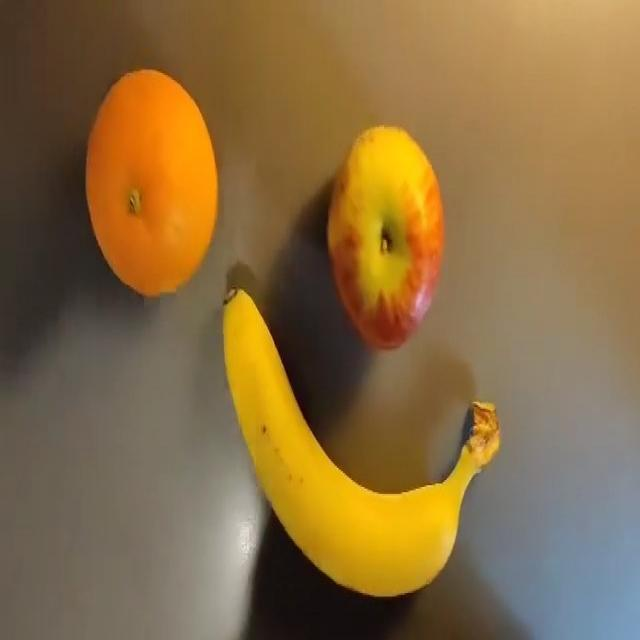Apple: (326, 124, 445, 349)
Banana: (220, 284, 501, 598)
Orange: (84, 67, 219, 297)
